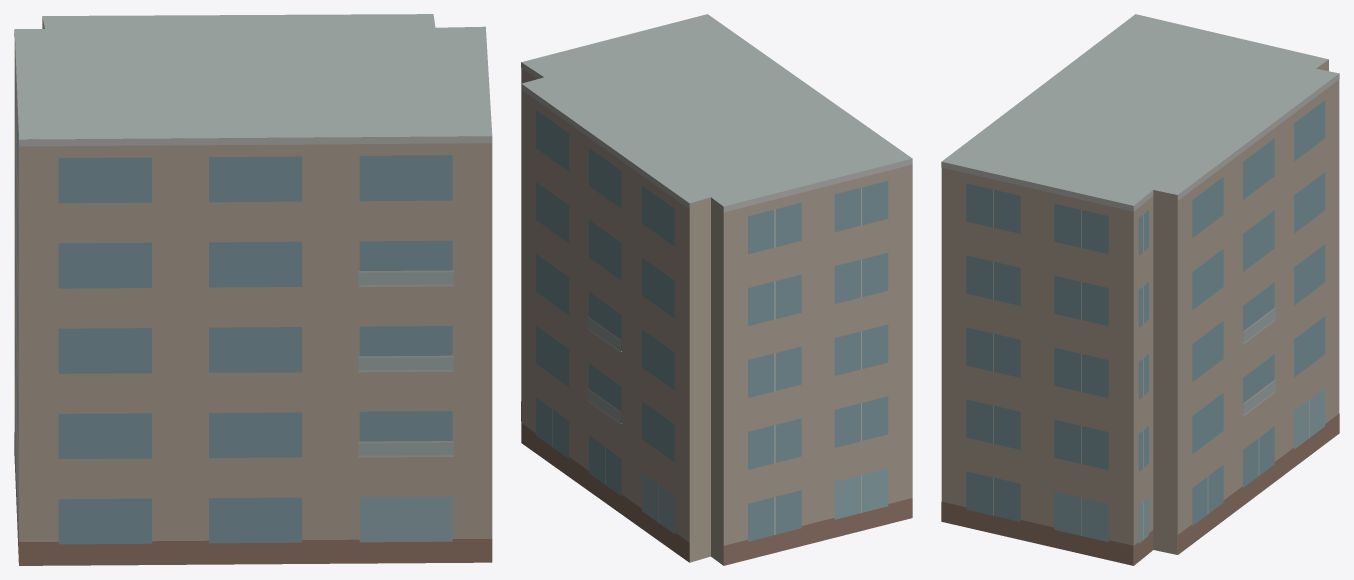
File: survey-upis-32851982.glb
The picture shows the model from 3 angles, left to right: view 1: azimuth 30°, elevation 25°; view 2: azimuth 150°, elevation 25°; view 3: azimuth 270°, elevation 25°; orthographic projection. The views are drawn at different scales.
Visible parts, largest first — view 1: survey-upis-32851982.tmp; view 2: survey-upis-32851982.tmp; view 3: survey-upis-32851982.tmp.
Boxes of the visible parts, x1,y1,x2,y2 form: survey-upis-32851982.tmp: [14, 14, 492, 565]; survey-upis-32851982.tmp: [521, 14, 912, 565]; survey-upis-32851982.tmp: [941, 14, 1339, 565].
Size of the model in its own units: 17.04 by 14.9 by 14.94.
